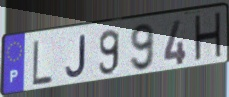4: (162, 17, 189, 67)
9: (129, 21, 156, 73), (97, 28, 121, 76)
H: (192, 10, 224, 66)
J: (64, 33, 88, 80)
L: (31, 38, 54, 87)
